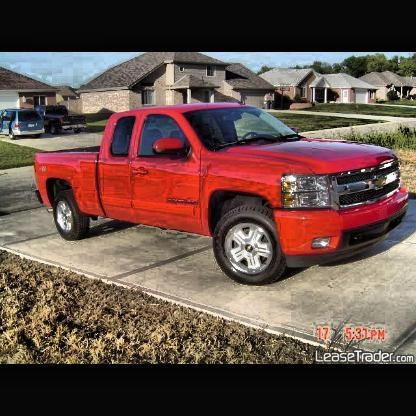Chevrolet Silverado 1500 Extended Cab 2012: (34, 101, 412, 287)
